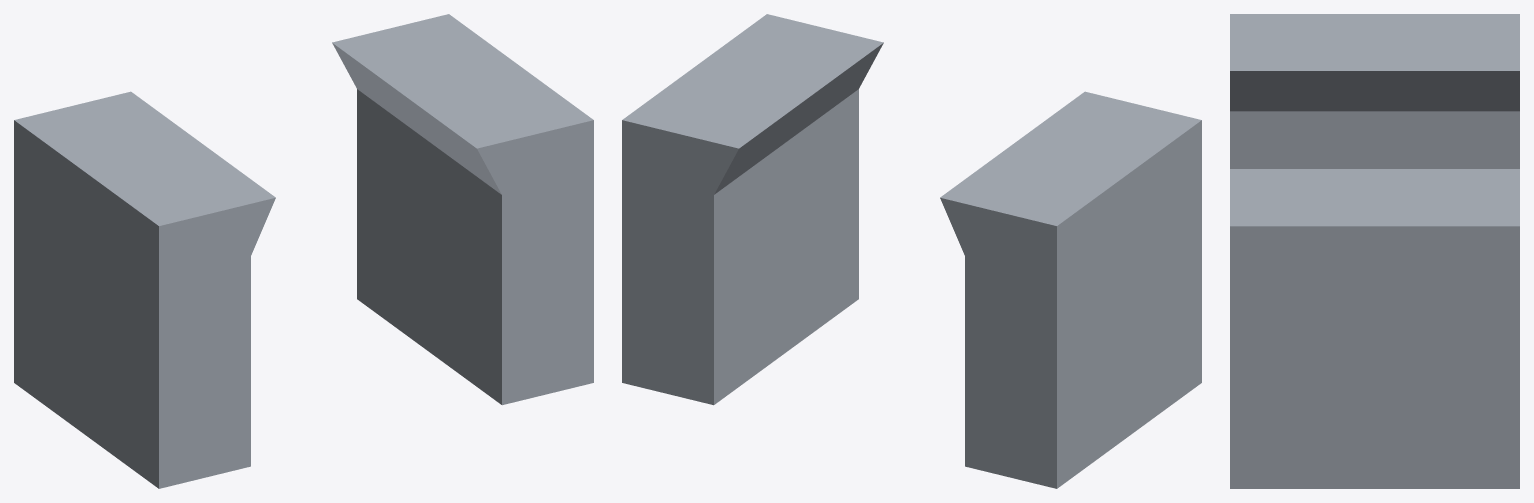
The model's file is wall_doorway.fbx.
The picture shows the model from 3 angles, left to right: view 1: azimuth 30°, elevation 25°; view 2: azimuth 150°, elevation 25°; view 3: azimuth 270°, elevation 25°; orthographic projection.
Parts seen in each view (by area): view 1: Cylinder; view 2: Cylinder; view 3: Cylinder.
Part boxes in pixels (x1,y1,x2,y2): Cylinder: (14,14,593,488); Cylinder: (622,14,1201,488); Cylinder: (1230,14,1519,488).
Size of the model in its own units: 1.73 by 1 by 1.
